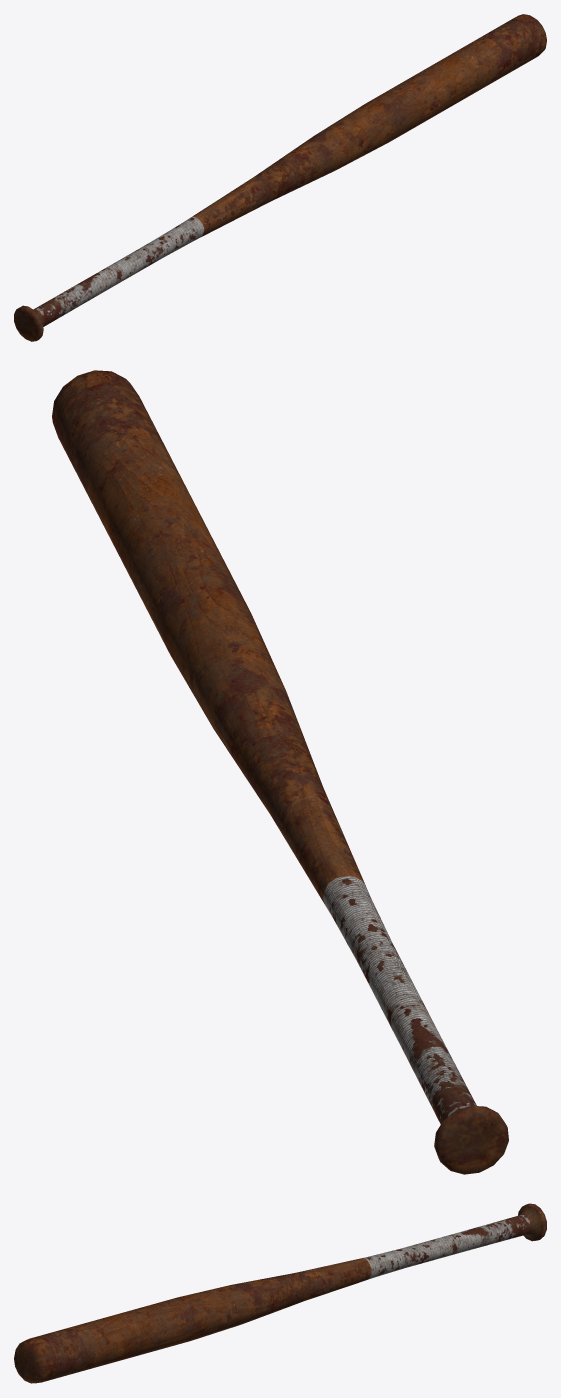
File: Anim_idle_bate_objetos.0038.obj
3 renders of one model, top to bottom at view 1: azimuth 90°, elevation 25°; view 2: azimuth 150°, elevation 25°; view 3: azimuth 270°, elevation 25°, orthographic. The views are drawn at different scales.
Parts seen in each view (by area): view 1: Bate1; view 2: Bate1; view 3: Bate1.
Part boxes in pixels (<box>): Bate1: <box>14,14,546,341</box>; Bate1: <box>52,370,508,1174</box>; Bate1: <box>14,1203,546,1383</box>.
Size of the model in its own units: 3.95 by 0.9056 by 3.91.
